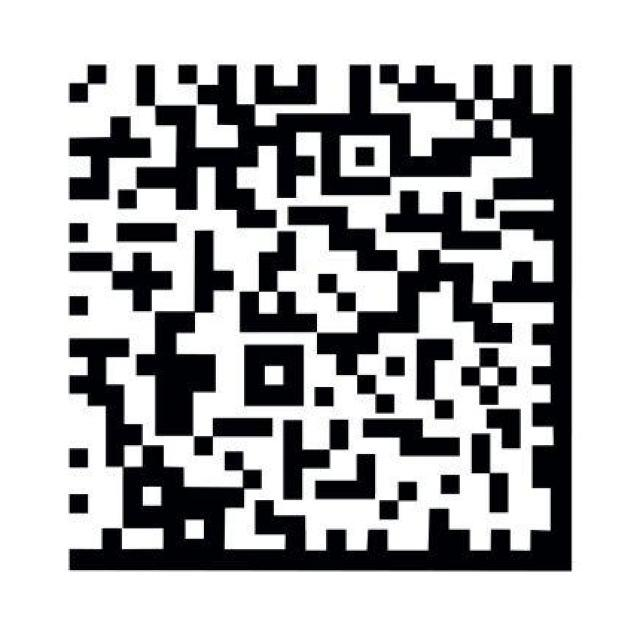Data-Matrix: (51, 52, 588, 588)
